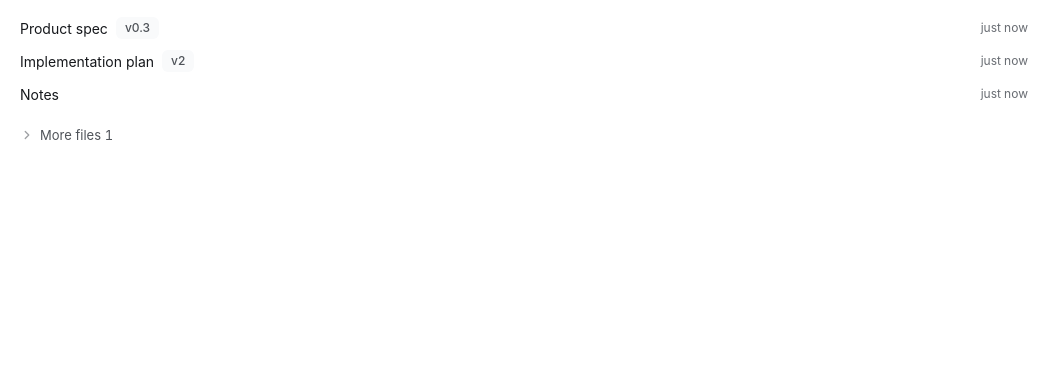
Scenario: Docs tab › Copy as markdown copies the source text
This screenshot has width=1048, height=380.
Click the button "Implementation plan v2 just now" at (87, 61), box top-left (12, 45), bottom-right (1036, 77)
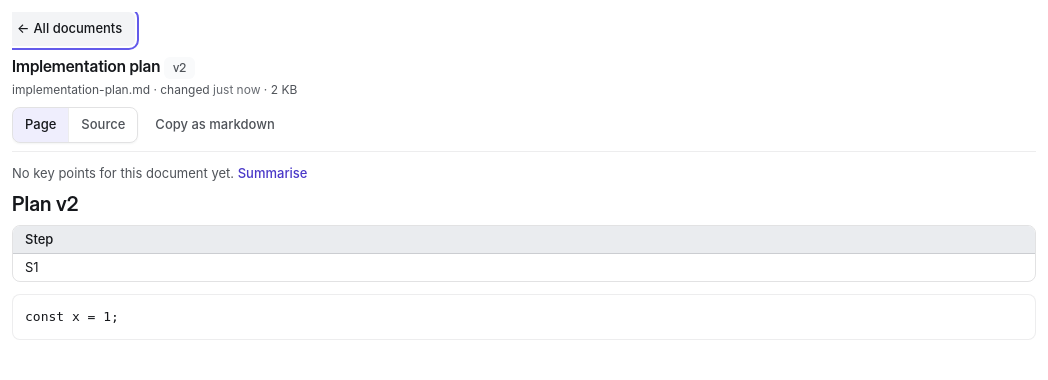
Result: the table is shown at top-left (13, 226), bottom-right (1035, 281)
Click the button "Copy as markdown" at (215, 125), box top-left (142, 108), bottom-right (288, 142)
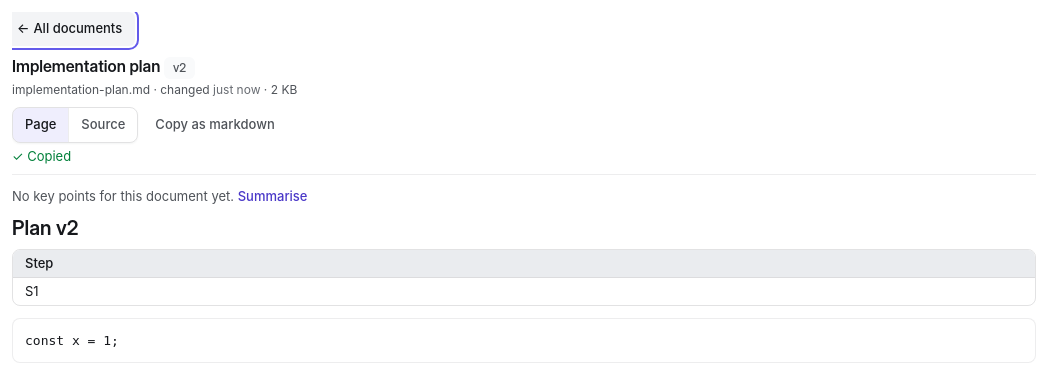
Result: the message shows "Copied" at top-left (12, 148), bottom-right (71, 164)
